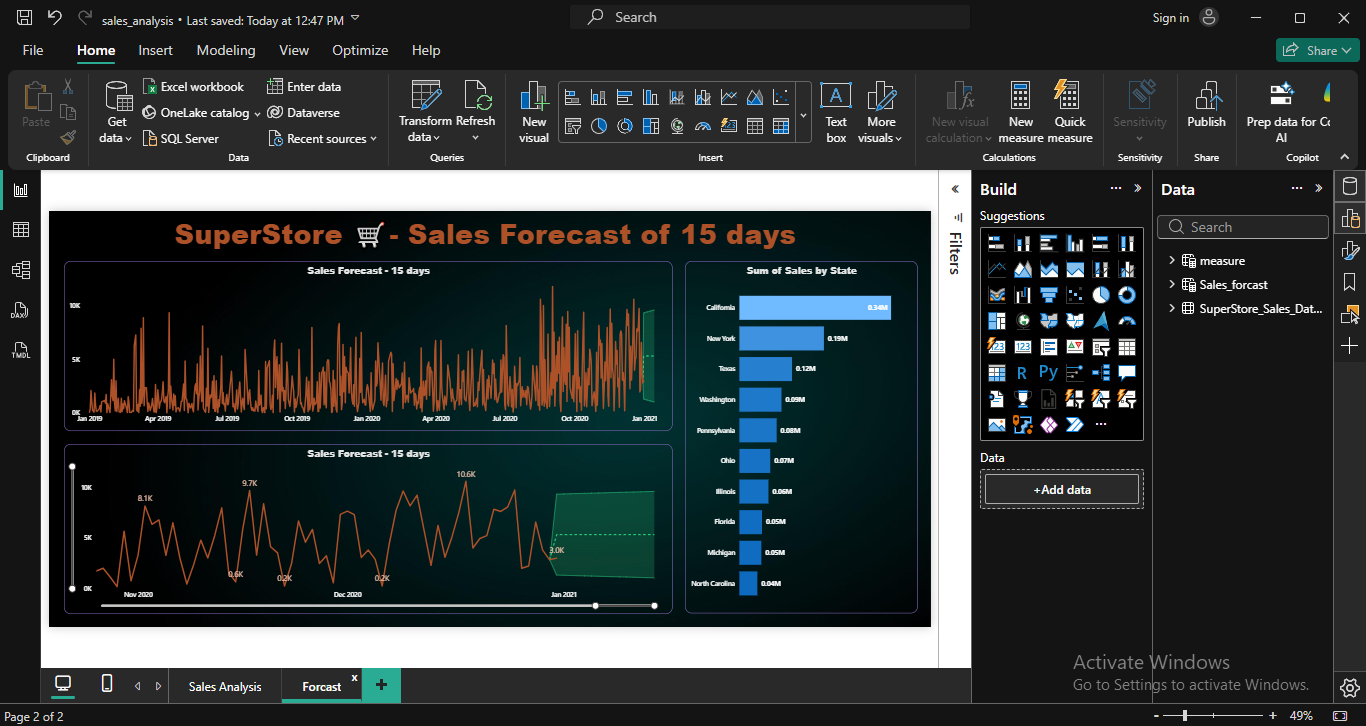

This screenshot's page, from the dashboard's own definition file:
{"tool":"powerbi","page":{"name":"Forcast","canvas":[1800,850],"ordinal":1},"visuals":[{"type":"lineChart","title":"Sales Forecast - 15 days ","fields":{"Y":["Sum(SuperStore_Sales_Dataset.Sales)"],"Category":["SuperStore_Sales_Dataset.Order Date"]},"box":[30.6,102.8,1241.7,347.2],"z":0},{"type":"lineChart","title":"Sales Forecast - 15 days ","fields":{"Y":["Sum(SuperStore_Sales_Dataset.Sales)"],"Category":["SuperStore_Sales_Dataset.Order Date"]},"box":[30.6,475,1241.7,347.2],"z":1000},{"type":"card","fields":{"Values":["measure.Sales_Forecast"]},"box":[0,0,1800,86],"z":2000},{"type":"clusteredBarChart","fields":{"Y":["Sum(SuperStore_Sales_Dataset.Sales)"],"Category":["SuperStore_Sales_Dataset.State"]},"box":[1297.2,102.8,475,719.4],"z":3000}]}

Visuals, with their boxes on the page's 1800x850 design canvas (x1, y1, x2, y2). These are canvas units, not pixel positions in the 1366x726 screenshot, which may show the page scaled, cropped or inside an application window:
"Sales Forecast - 15 days " lineChart: (31, 103, 1272, 450)
"Sales Forecast - 15 days " lineChart: (31, 475, 1272, 822)
card - measure.Sales_Forecast: (0, 0, 1800, 86)
clusteredBarChart - Sum(SuperStore_Sales_Dataset.Sales) x SuperStore_Sales_Dataset.State: (1297, 103, 1772, 822)
